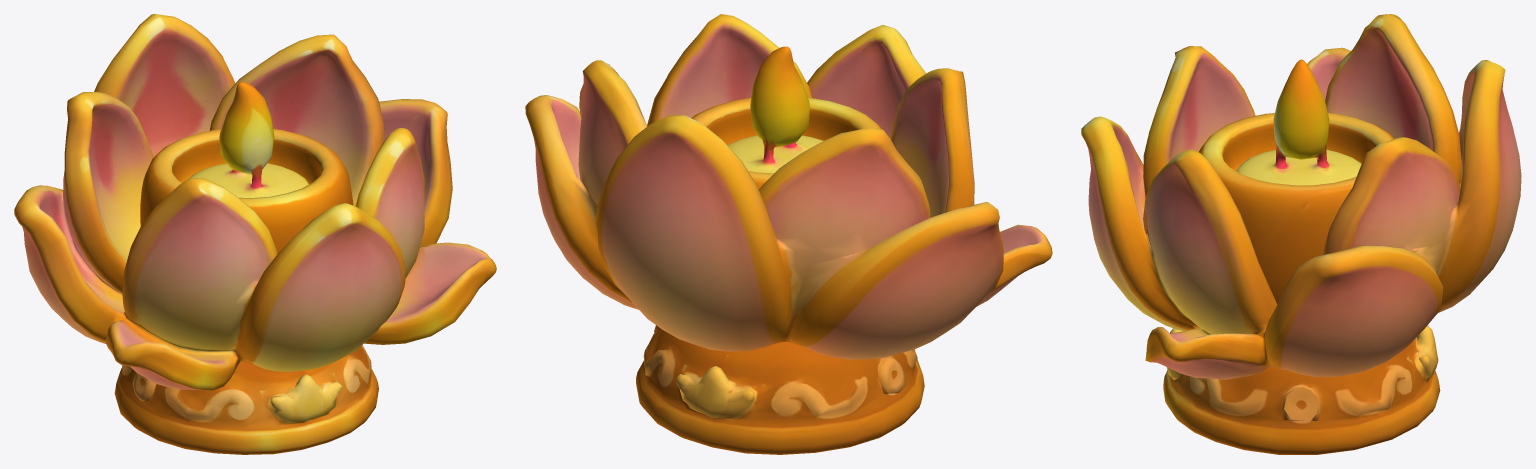
The model's file is lotus-stage.glb.
3 views of the same model, side by side, from view 1: azimuth 30°, elevation 25°; view 2: azimuth 150°, elevation 25°; view 3: azimuth 270°, elevation 25° (orthographic). The views are drawn at different scales.
Visible parts, largest first — view 1: tripo_node_8d9e7771-d736-4a20-9a39-155043194f6a; view 2: tripo_node_8d9e7771-d736-4a20-9a39-155043194f6a; view 3: tripo_node_8d9e7771-d736-4a20-9a39-155043194f6a.
Part boxes in pixels (x1,y1,x2,y2): tripo_node_8d9e7771-d736-4a20-9a39-155043194f6a: (14,14,496,454); tripo_node_8d9e7771-d736-4a20-9a39-155043194f6a: (525,14,1052,454); tripo_node_8d9e7771-d736-4a20-9a39-155043194f6a: (1081,14,1521,454).
Size of the model in its own units: 0.9758 by 0.7038 by 0.829.
1 material, 1 textured.
